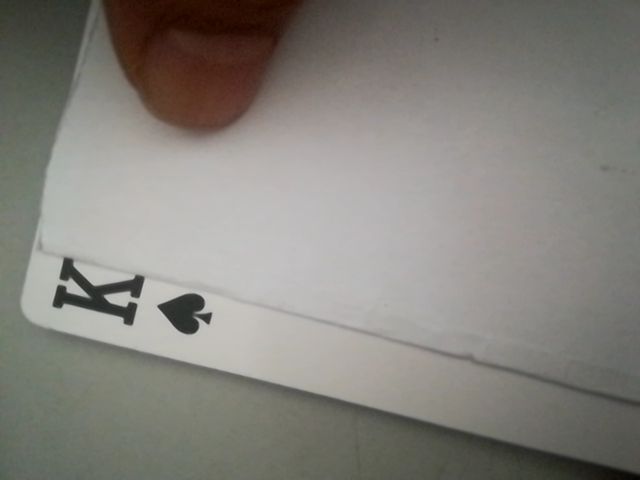ht k: (27, 248, 232, 351)
